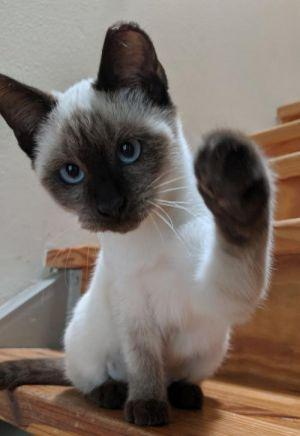siamese: (1, 21, 204, 242)
